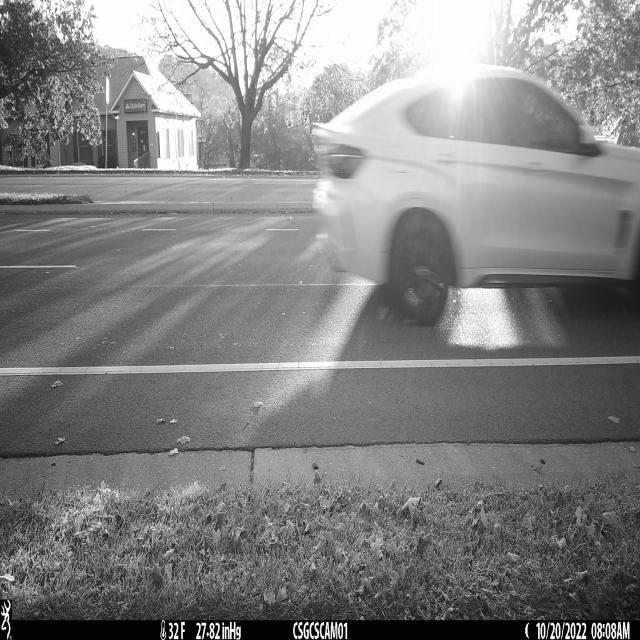SUV: (313, 64, 640, 327)
